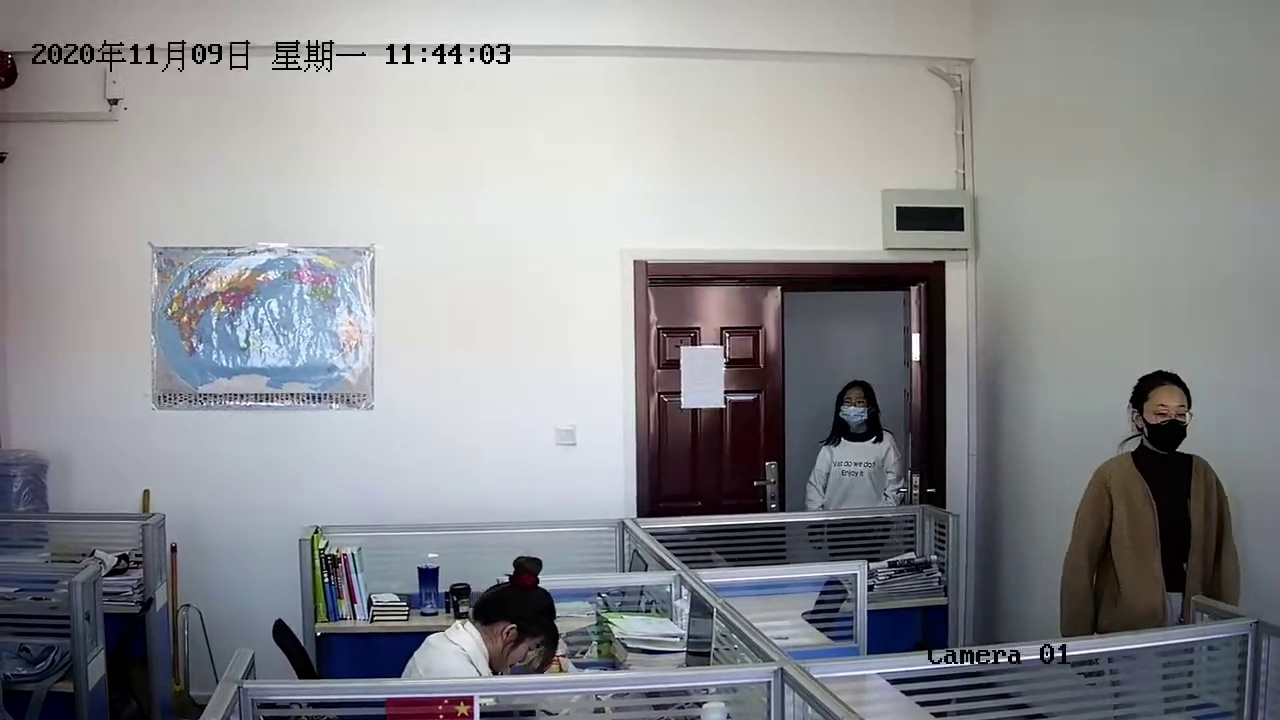mask: (1134, 375, 1194, 447), (831, 378, 884, 431)
